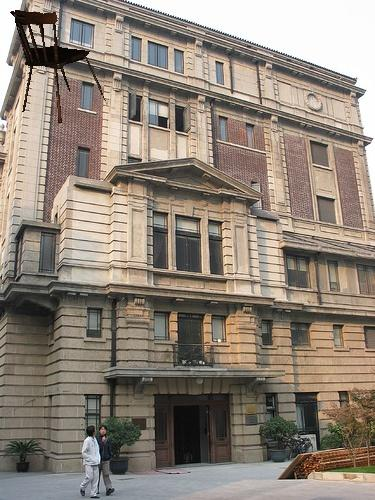tampered: (11, 11, 108, 127)
